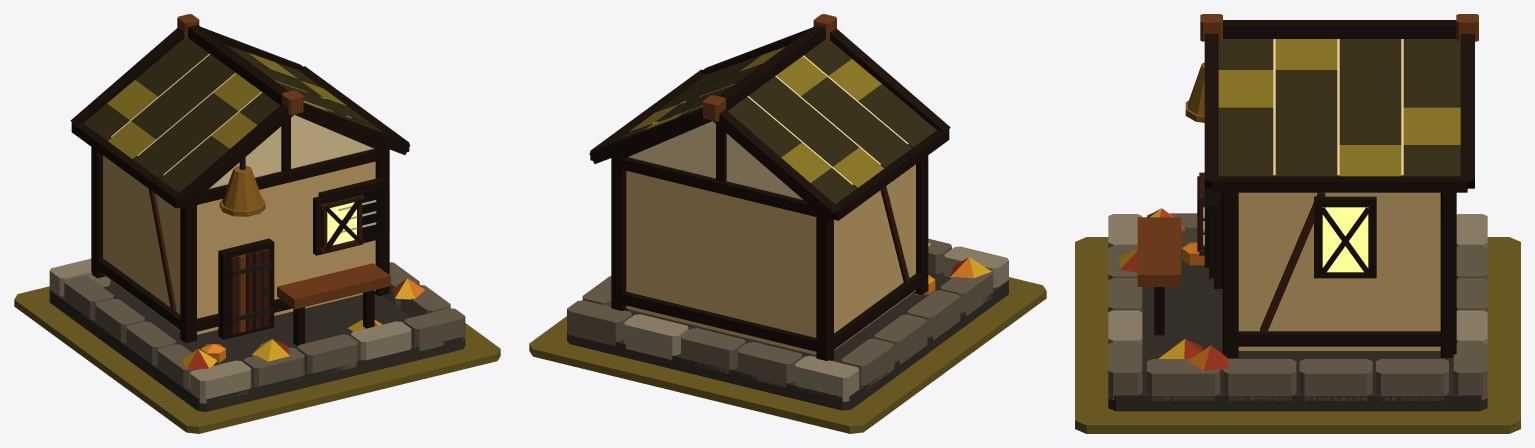
File: schoolroom_t3.glb
The picture shows the model from 3 angles, left to right: view 1: azimuth 30°, elevation 25°; view 2: azimuth 150°, elevation 25°; view 3: azimuth 270°, elevation 25°; orthographic projection. The views are drawn at different scales.
Visible parts, largest first — view 1: MMR | schoolroom | T03 Architecture.001, MMR | schoolroom | Tier 03 Ground.001, MMR | schoolroom | T03 Autumn Dressing.001; view 2: MMR | schoolroom | T03 Architecture.001, MMR | schoolroom | Tier 03 Ground.001, MMR | schoolroom | T03 Autumn Dressing.001; view 3: MMR | schoolroom | T03 Architecture.001, MMR | schoolroom | Tier 03 Ground.001, MMR | schoolroom | T03 Autumn Dressing.001.
Part boxes in pixels (box(x1,y1,x2,y2)): MMR | schoolroom | T03 Architecture.001: box(49, 14, 465, 411); MMR | schoolroom | Tier 03 Ground.001: box(14, 286, 500, 433); MMR | schoolroom | T03 Autumn Dressing.001: box(182, 278, 424, 370); MMR | schoolroom | T03 Architecture.001: box(567, 14, 1008, 410); MMR | schoolroom | Tier 03 Ground.001: box(529, 277, 1046, 433); MMR | schoolroom | T03 Autumn Dressing.001: box(913, 243, 991, 294); MMR | schoolroom | T03 Architecture.001: box(1108, 14, 1487, 411); MMR | schoolroom | Tier 03 Ground.001: box(1075, 237, 1520, 433); MMR | schoolroom | T03 Autumn Dressing.001: box(1119, 208, 1229, 370).
Bounding box in the file's own units: 2.35 × 1.87 × 2.35.
Materials: 2 (1 with a texture image).
